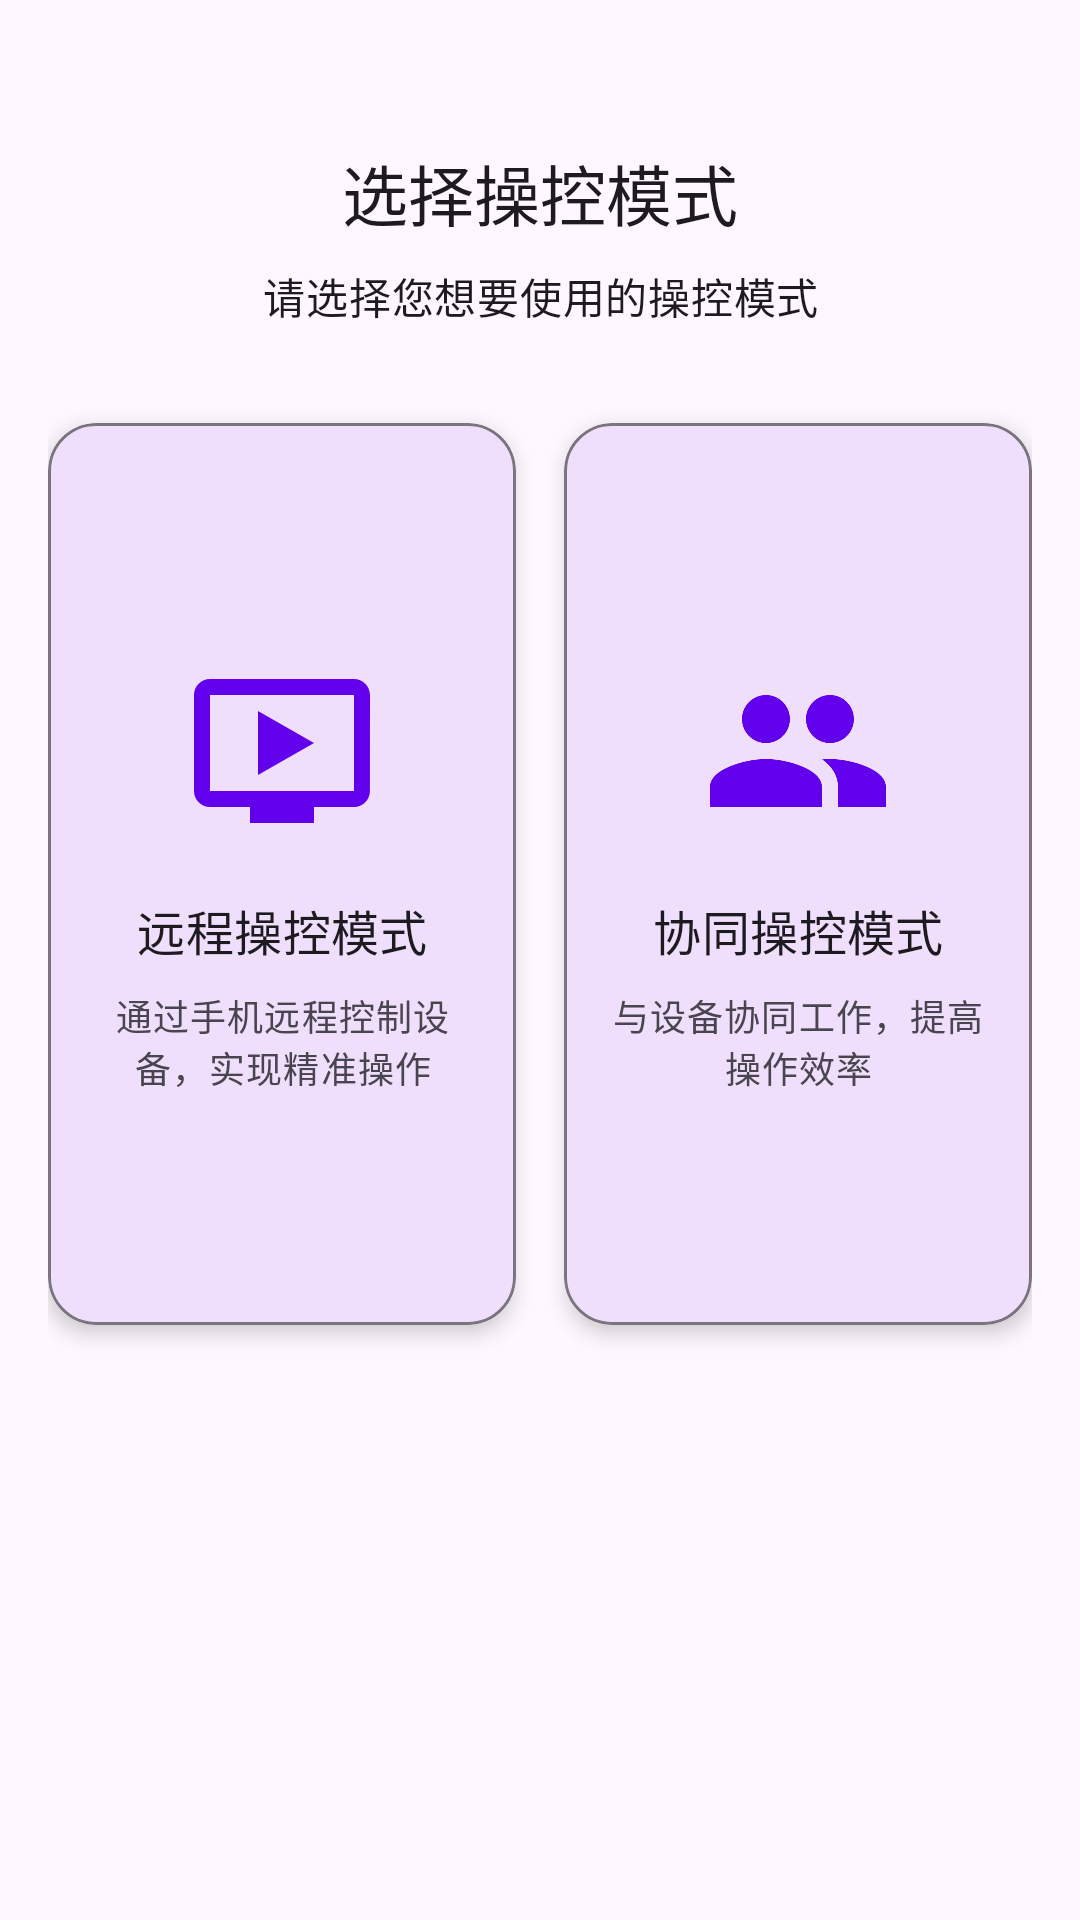

Locate icon controls on the screen. Image size 1080 × 1920, boxes as [left=x1, top=y1, right=x2, bottom=y2].
cooperative control: [left=710, top=695, right=886, bottom=807]
remote control: [left=194, top=679, right=370, bottom=823]
